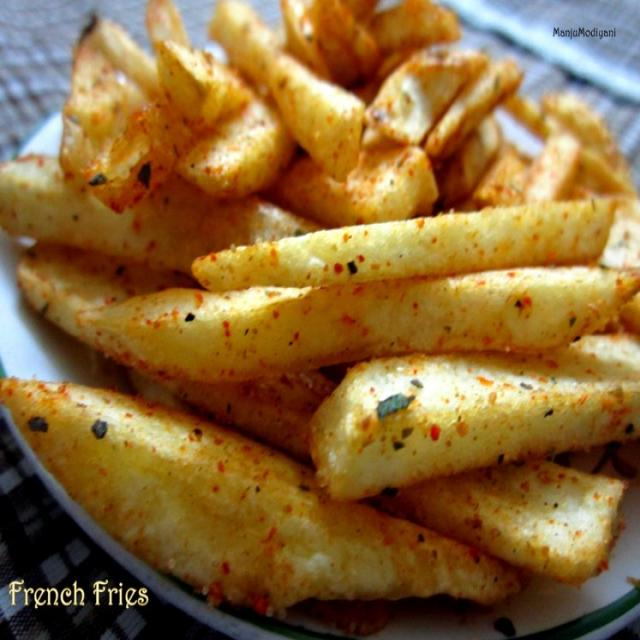Fries: (0, 1, 640, 622)
